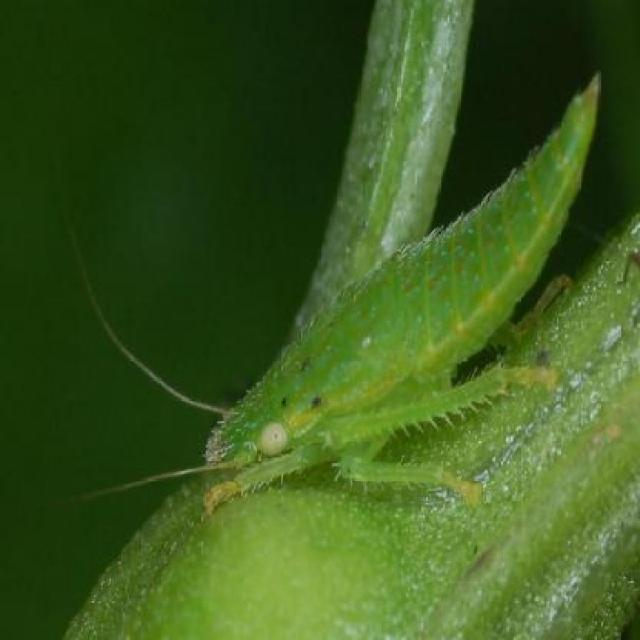green-leafhopper: (151, 77, 598, 510)
